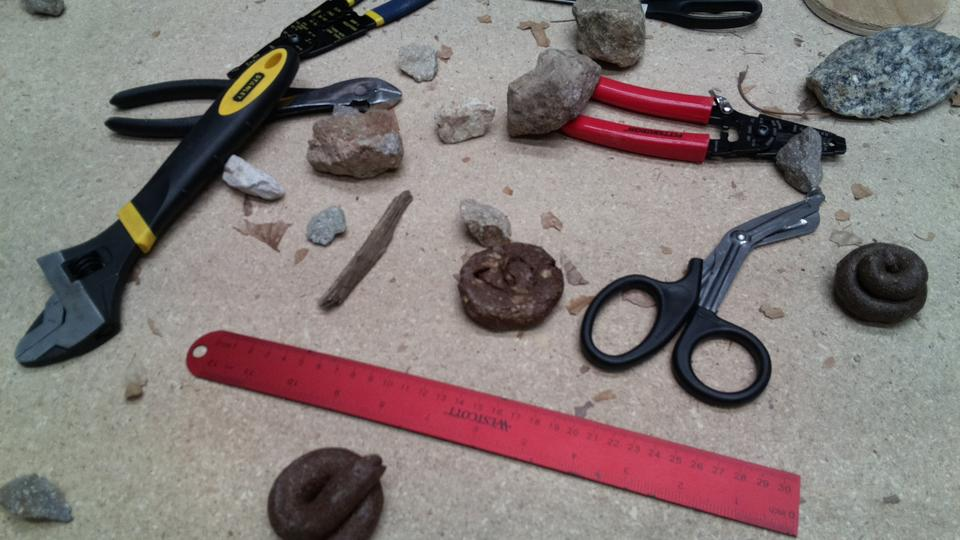poop: (261, 442, 386, 540), (454, 237, 568, 336), (831, 237, 932, 330)
